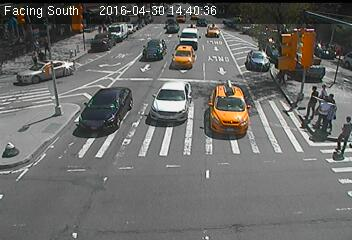neg: (35, 102, 74, 154), (184, 95, 221, 144), (136, 164, 173, 213), (135, 76, 169, 121), (81, 93, 106, 127), (252, 24, 277, 58), (227, 17, 242, 36), (167, 7, 179, 24), (193, 12, 203, 26)
